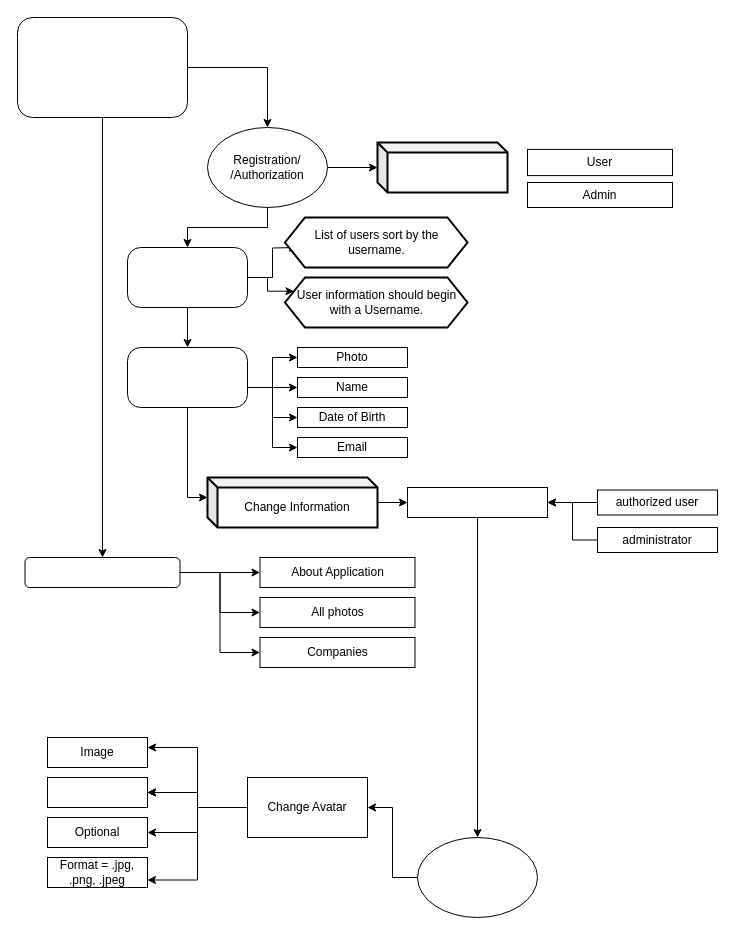
Image size: 735x935. Some labels were removed from this diagram. The box of each missing label's shape, as (x1, y1, x2, y2) in pixels:
Footer menu: (24, 556, 180, 588)
Home page: (16, 16, 188, 118)
legend to edit information: (416, 836, 538, 918)
List of users: (126, 246, 248, 308)
Login/ /Logout: (376, 141, 508, 193)
Profile user: (126, 346, 248, 408)
Standard picture by default: (46, 776, 148, 808)
User Information: (406, 486, 548, 518)
